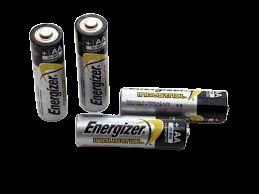Battery: (75, 113, 190, 152)
